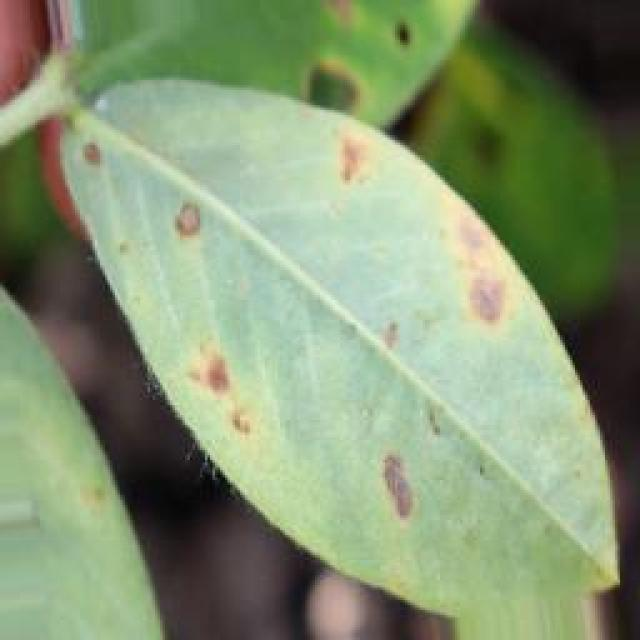Early_leaf_spot: (414, 182, 530, 323), (339, 410, 429, 540), (163, 332, 263, 434), (293, 112, 367, 195), (49, 116, 127, 190), (167, 188, 229, 278), (291, 52, 360, 118), (358, 314, 410, 378), (311, 0, 378, 41)
